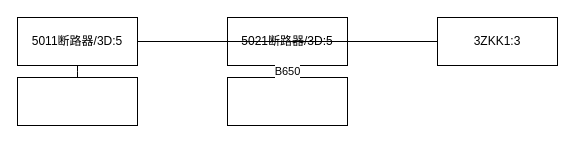
Some shapes in this 575 by 143 pixel diagram are drawn without their labels. Each missing label, with the box of its shape:
5011断路器/3D:5a: (16, 76, 138, 126)
5021断路器/3D:5a: (226, 76, 348, 126)
